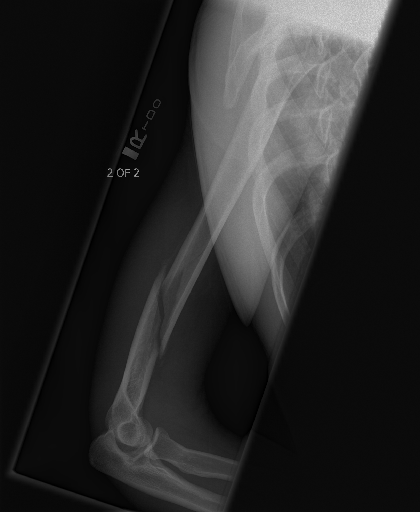fracture: (142, 247, 180, 373)
